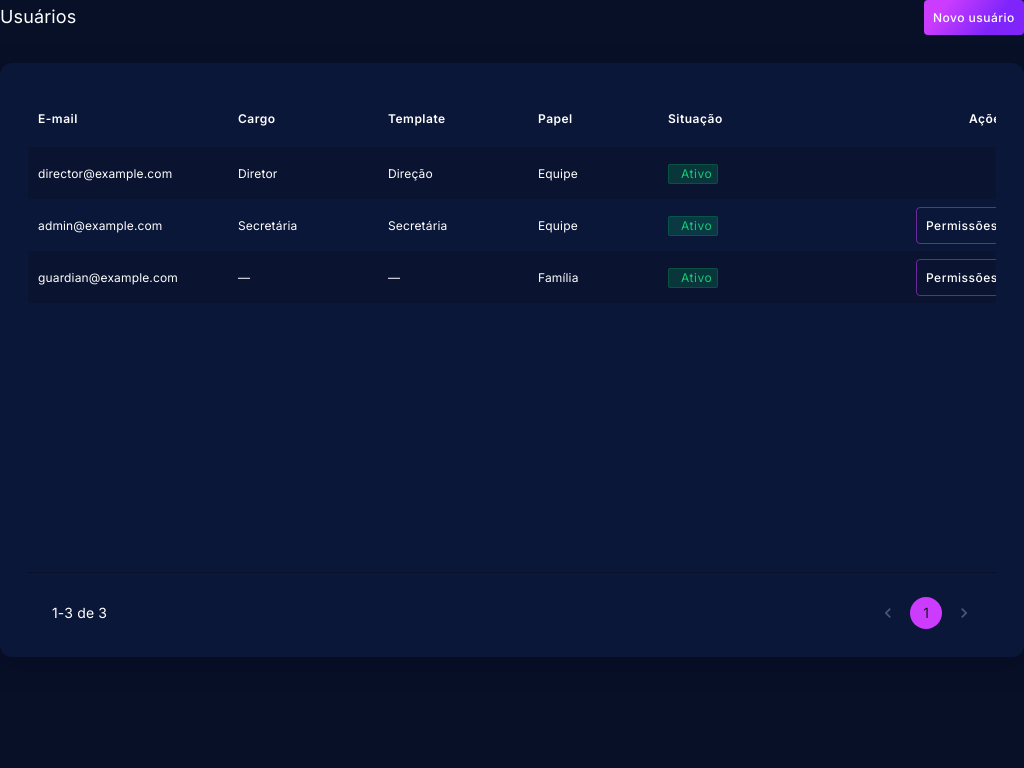
Test case: Users page › opens the permissions dialog for a target membership
The width and height of the screenshot is (1024, 768).
Check: the text "admin@example.com" is shown, box [38, 218, 162, 233]
Click the button "Permissões" in the row of "admin@example.com": (962, 226) [916, 207, 1008, 244]
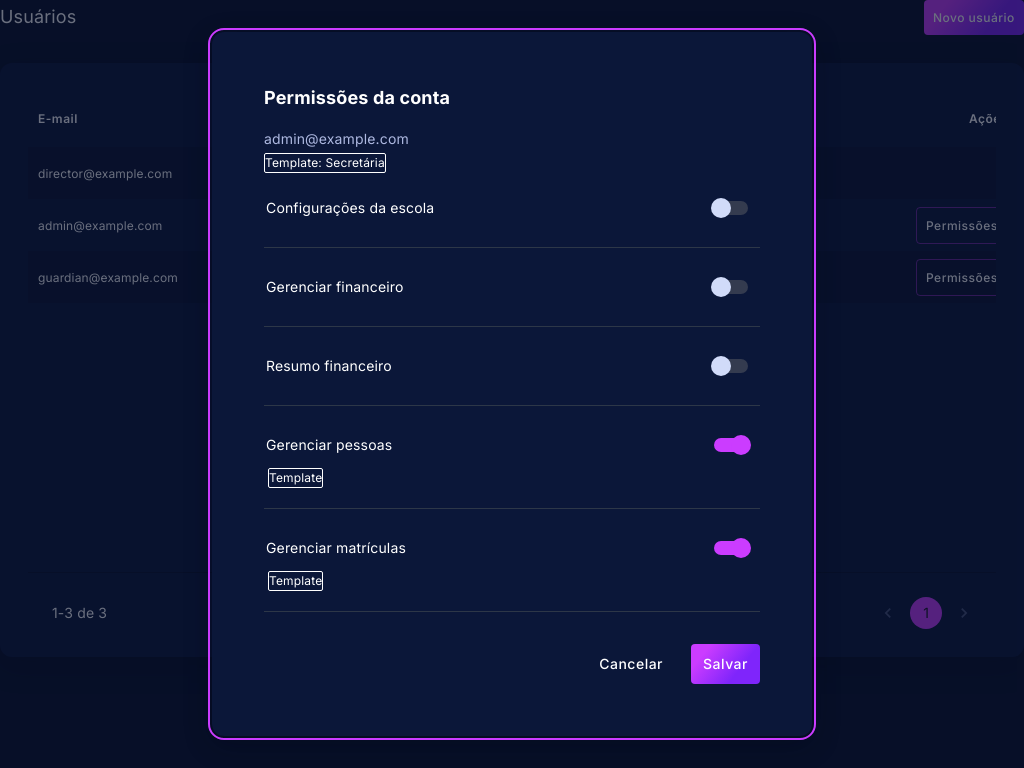
Check: the dialog is shown, box [212, 32, 812, 736]
Check: the heading "Permissões da conta" is shown, box [264, 87, 450, 108]
Check: the dialog shows "admin@example.com", box [264, 130, 409, 147]
